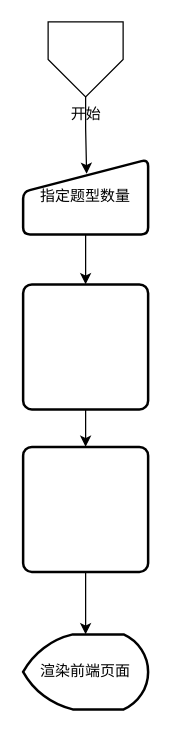
Image size: 170x733. Some labels were removed from this diagram. The box of each missing label's shape, as (x1, y1, x2, y2) in pixels:
合并题目组卷: (21, 445, 149, 572)
随机抽取: (21, 282, 149, 410)
